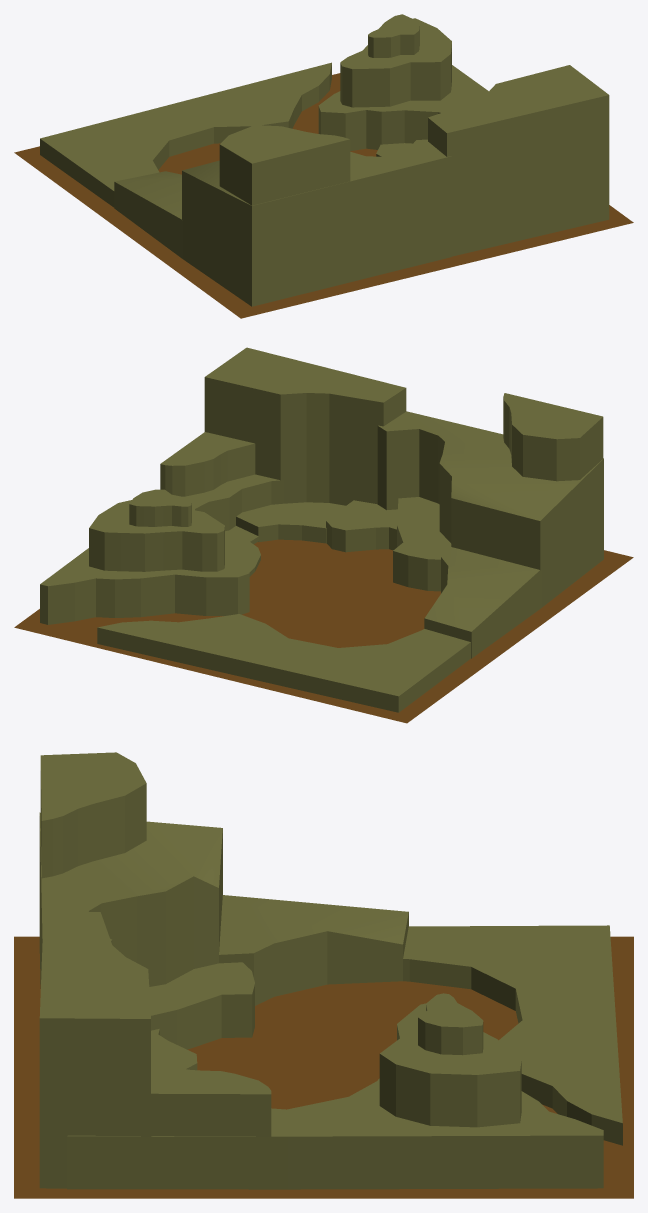
File: niveau_cutscene_finale.fbx
3 views of the same model, one above another, from view 1: azimuth 30°, elevation 25°; view 2: azimuth 150°, elevation 25°; view 3: azimuth 270°, elevation 25° (orthographic). The views are drawn at different scales.
Visible parts, largest first — view 1: PolyShape__8_, PolyShape__7_, PolyShape__1_, Sol, PolyShape__3__1, PolyShape__1__2, PolyShape, PolyShape__9_, PolyShape__2__1; view 2: Sol, PolyShape__8_, PolyShape__7_, PolyShape__1_, PolyShape, PolyShape__9_, PolyShape__1__2, PolyShape__3__1, PolyShape_2, PolyShape__3_, PolyShape__1__1, PolyShape__2_ (+2 smaller); view 3: Sol, PolyShape, PolyShape__1_, PolyShape__7_, PolyShape__8_, PolyShape__9_, PolyShape__1__2, PolyShape__3__1, PolyShape_2, PolyShape__3_, PolyShape__2__1, PolyShape__2_.
Boxes of the visible parts, x1,y1,x2,y2 form: PolyShape__8_: (182, 139, 451, 306); PolyShape__7_: (428, 65, 609, 256); PolyShape__1_: (40, 62, 331, 207); Sol: (14, 73, 633, 318); PolyShape__3__1: (219, 125, 350, 205); PolyShape__1__2: (340, 18, 451, 107); PolyShape: (318, 65, 488, 150); PolyShape__9_: (114, 171, 182, 258); PolyShape__2__1: (368, 14, 419, 57); Sol: (14, 539, 633, 723); PolyShape__8_: (377, 411, 603, 607); PolyShape__7_: (204, 347, 406, 505); PolyShape__1_: (97, 614, 470, 712); PolyShape: (40, 474, 283, 624); PolyShape__9_: (424, 547, 541, 658); PolyShape__1__2: (89, 500, 224, 571); PolyShape__3__1: (503, 393, 603, 481); PolyShape_2: (160, 432, 255, 496); PolyShape__3_: (393, 497, 451, 591); PolyShape__1__1: (236, 502, 345, 543); PolyShape__2_: (326, 500, 397, 552); Sol: (14, 936, 633, 1198); PolyShape: (67, 1078, 603, 1189); PolyShape__1_: (403, 925, 622, 1145); PolyShape__7_: (39, 911, 150, 1188); PolyShape__8_: (39, 812, 222, 988); PolyShape__9_: (219, 895, 408, 1005); PolyShape__1__2: (379, 1003, 521, 1127); PolyShape__3__1: (40, 752, 146, 878); PolyShape_2: (151, 1061, 271, 1136); PolyShape__3_: (149, 962, 254, 1049); PolyShape__2__1: (418, 993, 483, 1055); PolyShape__2_: (151, 1029, 197, 1070).
Bounding box in the file's own units: 16000 × 5573 × 16000.
